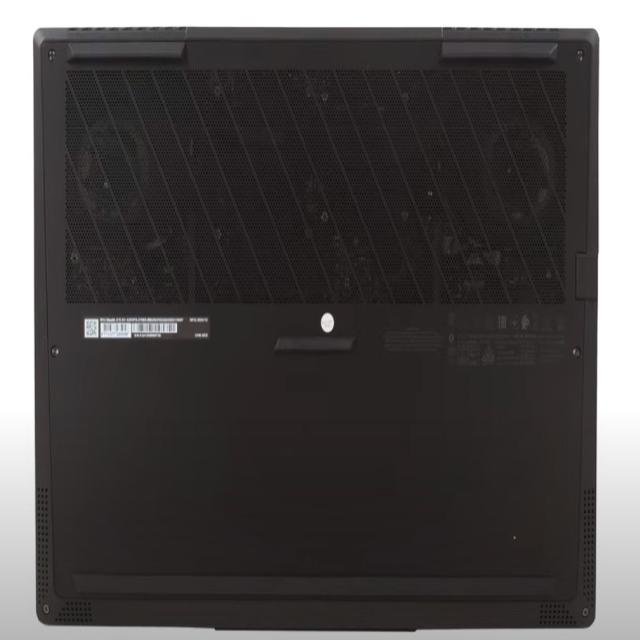outerscrew: (570, 42, 590, 68), (43, 43, 63, 66), (48, 339, 65, 363)
